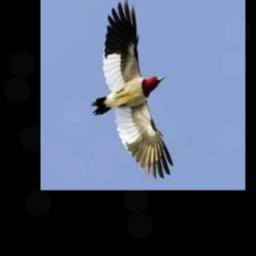Woodpecker: (90, 0, 172, 178)
